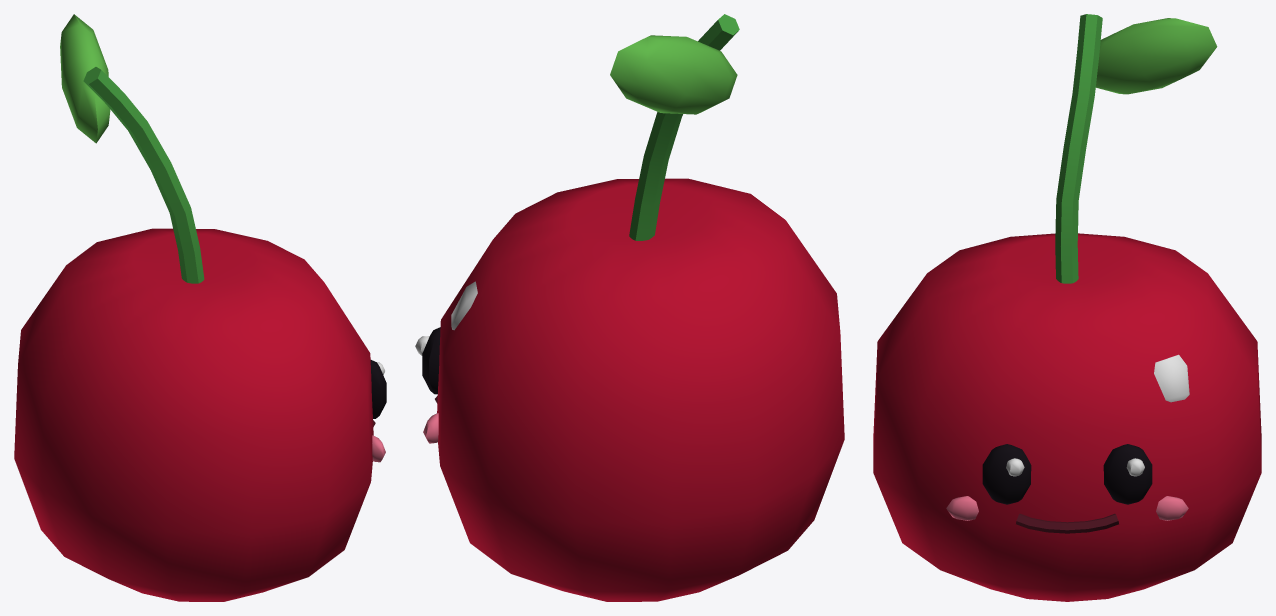
Rendered from cherry.glb.
The picture shows the model from 3 angles, left to right: view 1: azimuth 30°, elevation 25°; view 2: azimuth 150°, elevation 25°; view 3: azimuth 270°, elevation 25°; orthographic projection. The views are drawn at different scales.
Visible parts, largest first — view 1: cherry; view 2: cherry; view 3: cherry.
Boxes of the visible parts, box(x1,y1,x2,y2) form: cherry: box(14, 14, 386, 601); cherry: box(415, 14, 844, 601); cherry: box(873, 14, 1261, 601).
Size of the model in its own units: 0.4563 by 0.7178 by 0.483.
